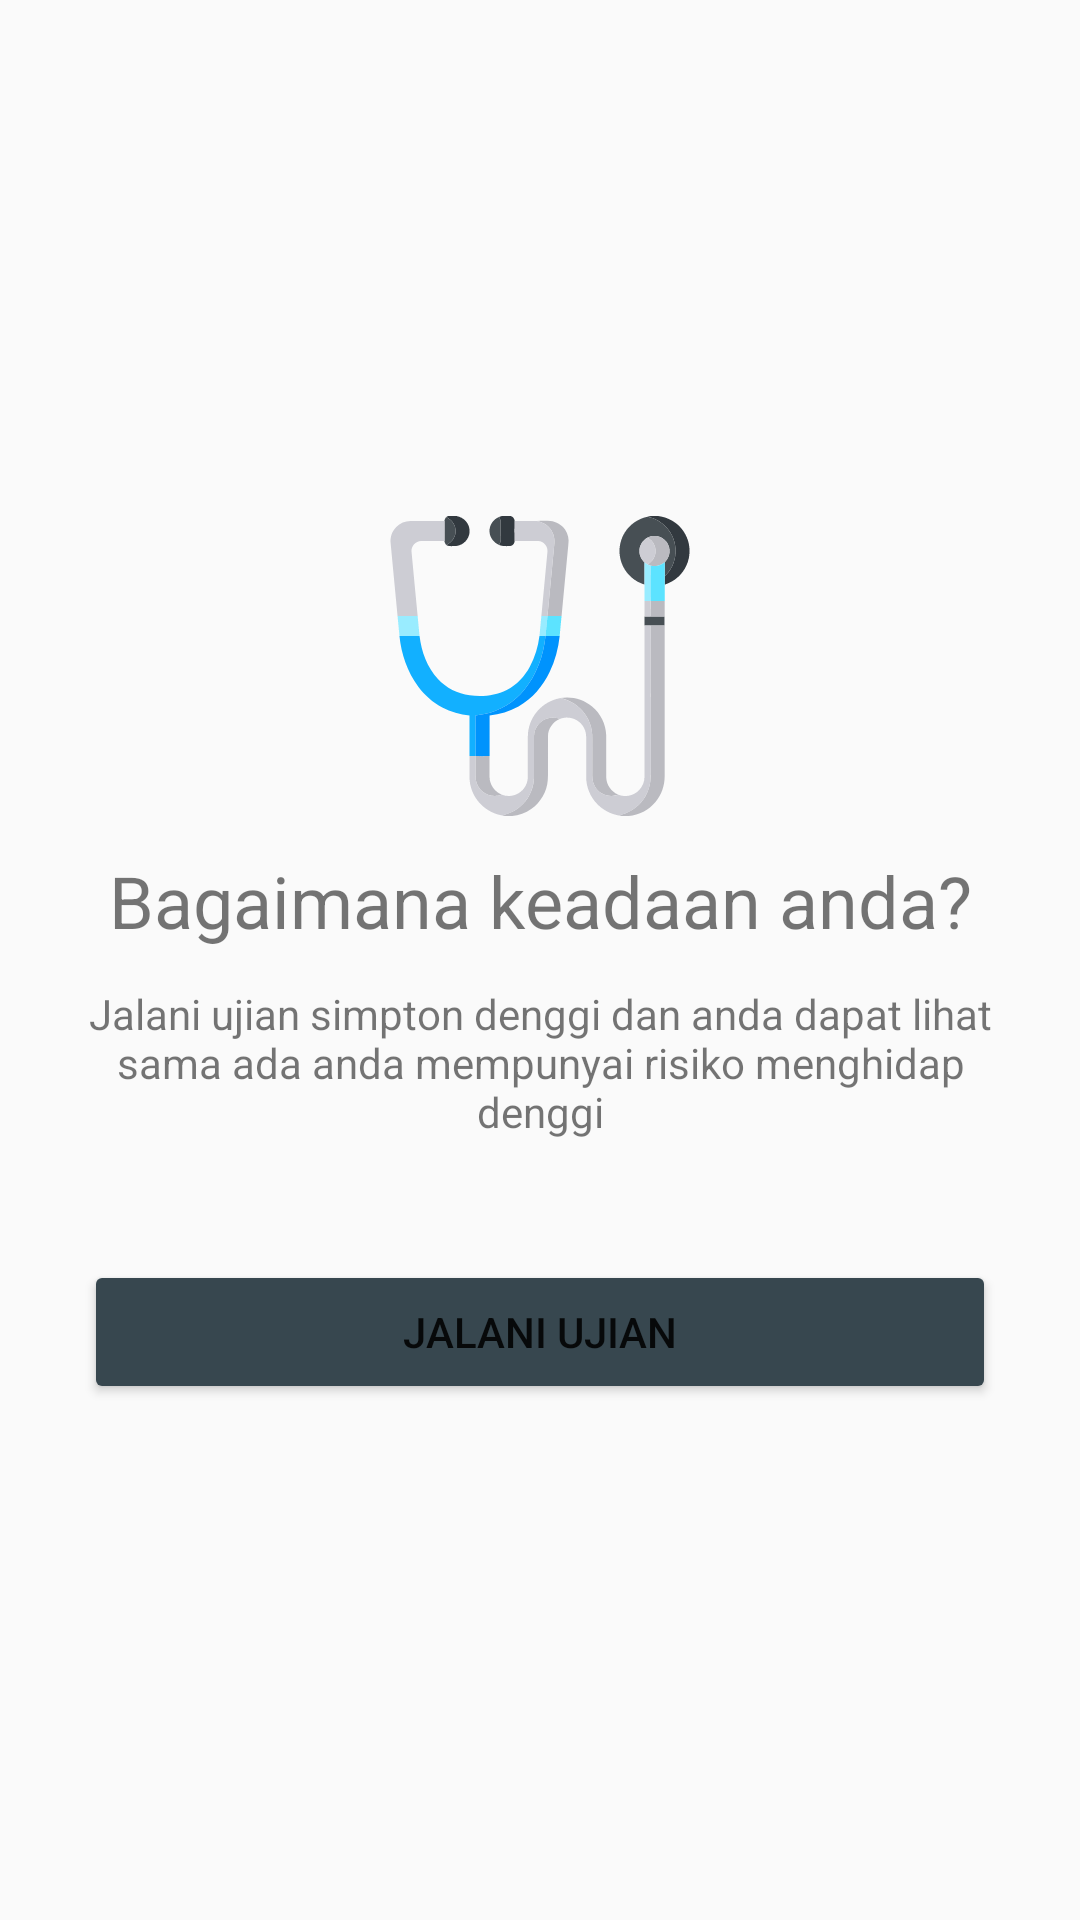

Named icons in this screenshot (1080×1920) and their bounding boxes, (x1, y1, x2, y2):
stetoscope: (391, 516, 690, 816)
